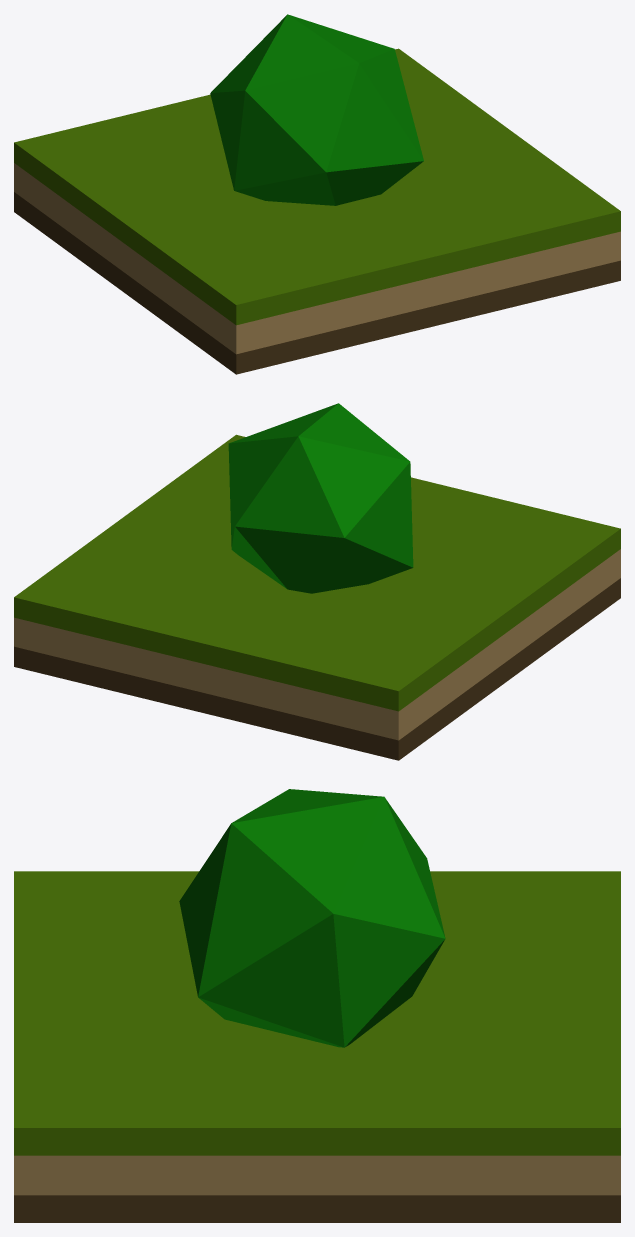
File: bush.fbx
The picture shows the model from 3 angles, top to bottom: view 1: azimuth 30°, elevation 25°; view 2: azimuth 150°, elevation 25°; view 3: azimuth 270°, elevation 25°; orthographic projection. The views are drawn at different scales.
Visible parts, largest first — view 1: tree ground.005, flower bush.004; view 2: tree ground.005, flower bush.004; view 3: tree ground.005, flower bush.004.
Boxes of the visible parts, left/top/right/bottom form: tree ground.005: left=14, top=48, right=620, bottom=374; flower bush.004: left=210, top=14, right=423, bottom=205; tree ground.005: left=14, top=434, right=620, bottom=760; flower bush.004: left=228, top=403, right=413, bottom=593; tree ground.005: left=14, top=871, right=620, bottom=1222; flower bush.004: left=179, top=789, right=445, bottom=1047.
Bounding box in the file's own units: 194 × 104 × 194.
